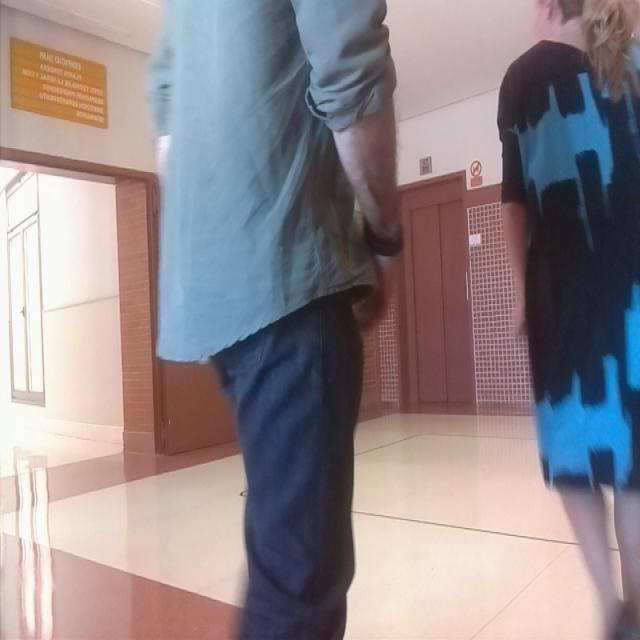person: (122, 0, 433, 639), (494, 0, 640, 640)
